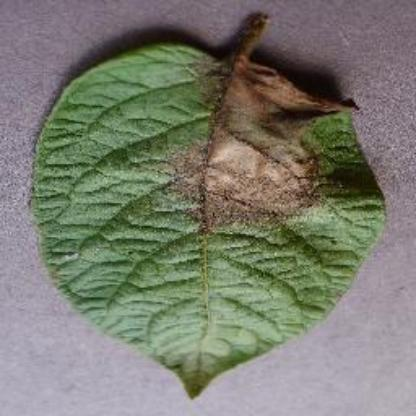Late-Blight: (32, 10, 384, 398)
